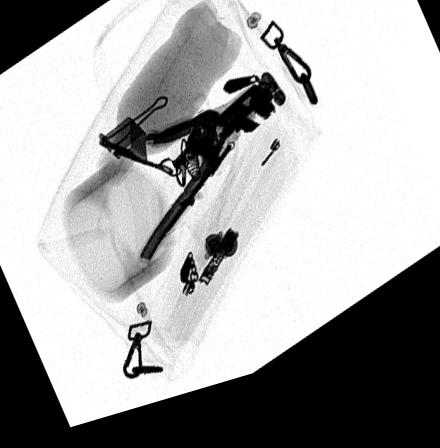Pliers: (132, 86, 285, 270)
